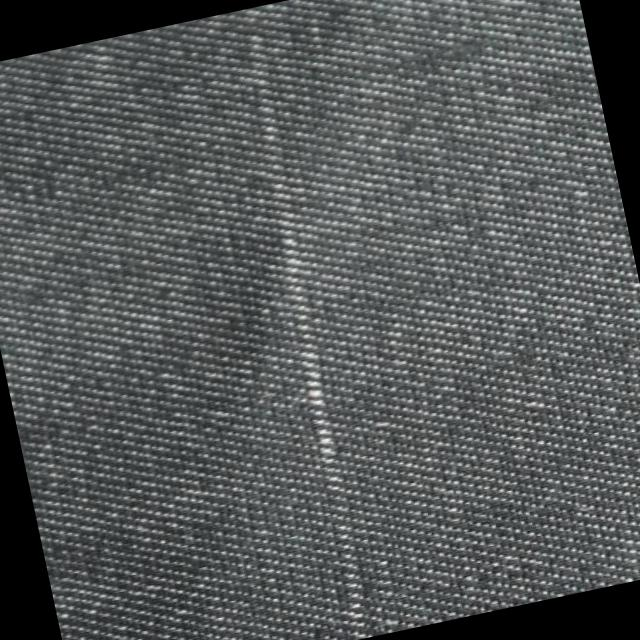Warp_Weft: (218, 6, 390, 640)
